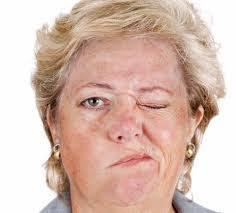strokeEyeSevere: (72, 79, 178, 116)
strokeMouthSevere: (102, 147, 158, 174)
